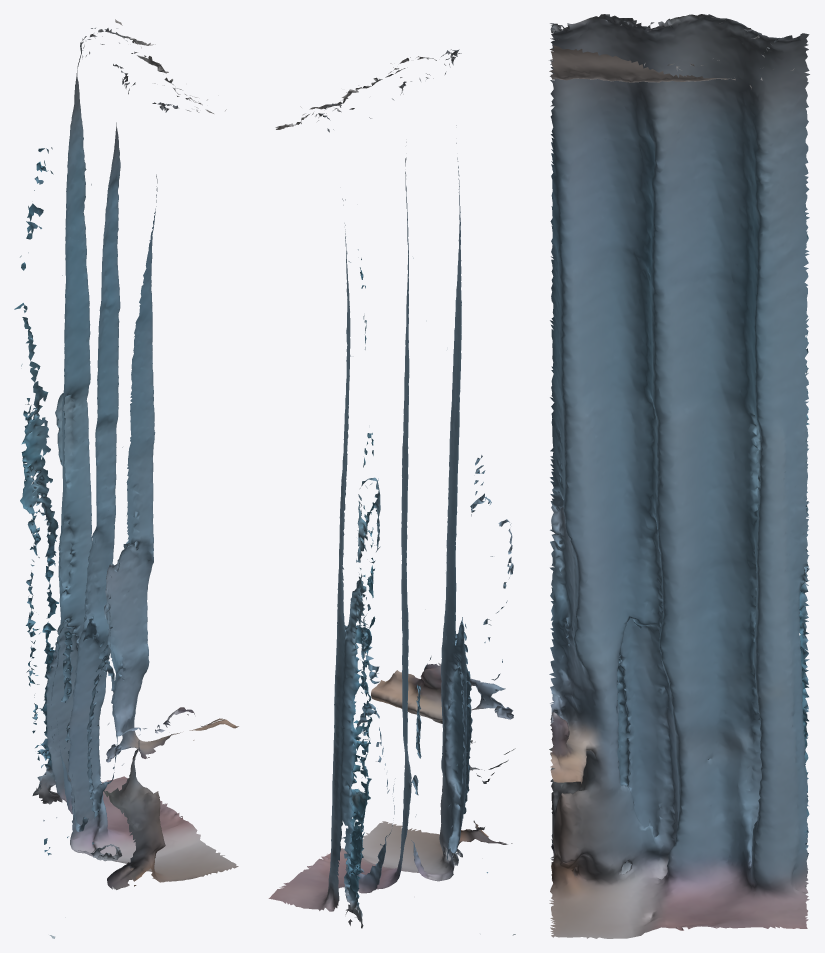
The model's file is apartment-full-4-ad4b014b3c25.glb.
3 renders of one model, left to right at view 1: azimuth 30°, elevation 25°; view 2: azimuth 150°, elevation 25°; view 3: azimuth 270°, elevation 25°, orthographic. The views are drawn at different scales.
Bounding box in the file's own units: 0.387 × 1.93 × 0.482.
